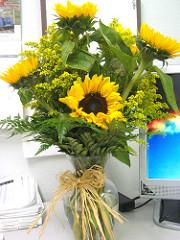sunflower: (61, 73, 123, 126), (136, 25, 180, 61), (0, 55, 39, 84), (55, 2, 99, 23), (59, 71, 60, 72)
